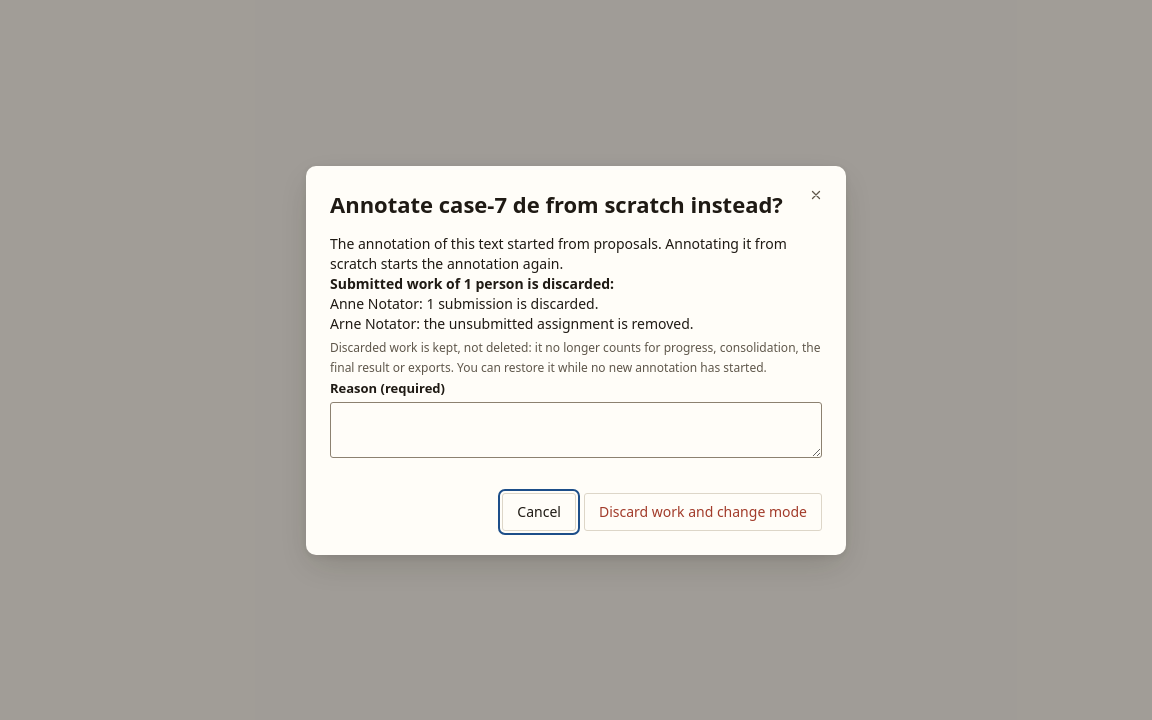
Scenario: ChangeModeDialog › requires a reason
Expected: the list item "Anne Notator: 1 submission is discarded." is shown, [330,294,598,312]
What coordinates should you click on to do the following:
click the button "Discard work and change mode"
I would click on:
 (703, 512)
Its box is [584,492,822,530].
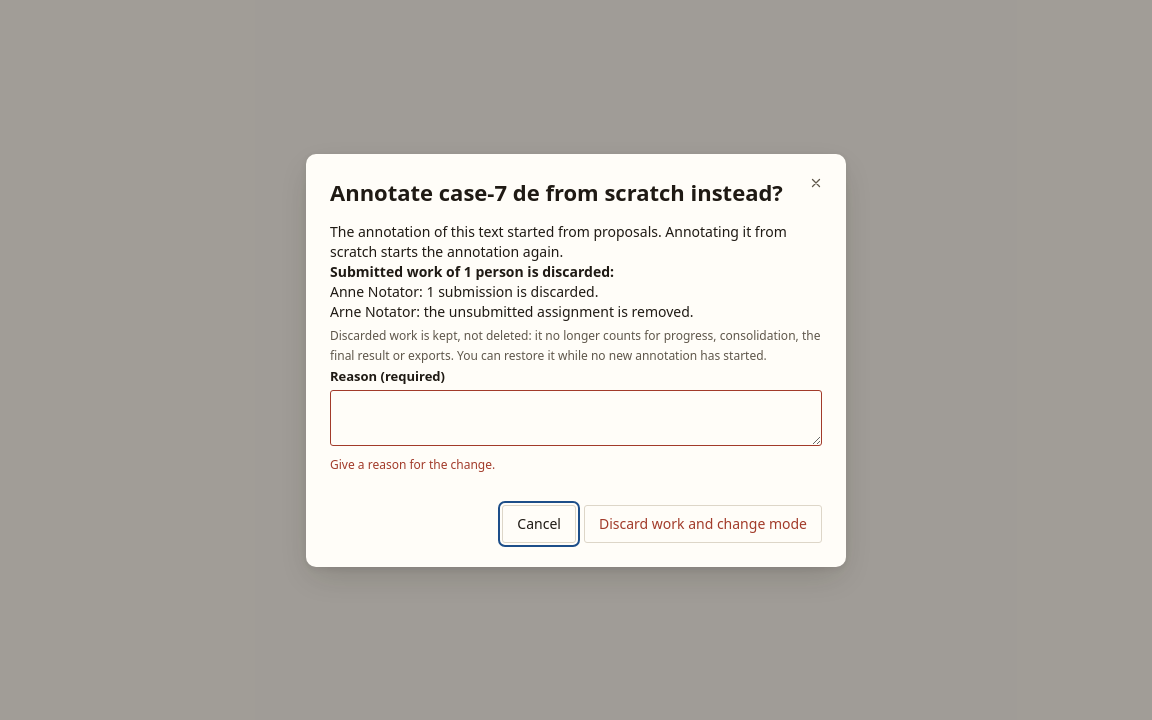
Expected: the text "Give a reason for the change." is shown, [330,456,495,472]
